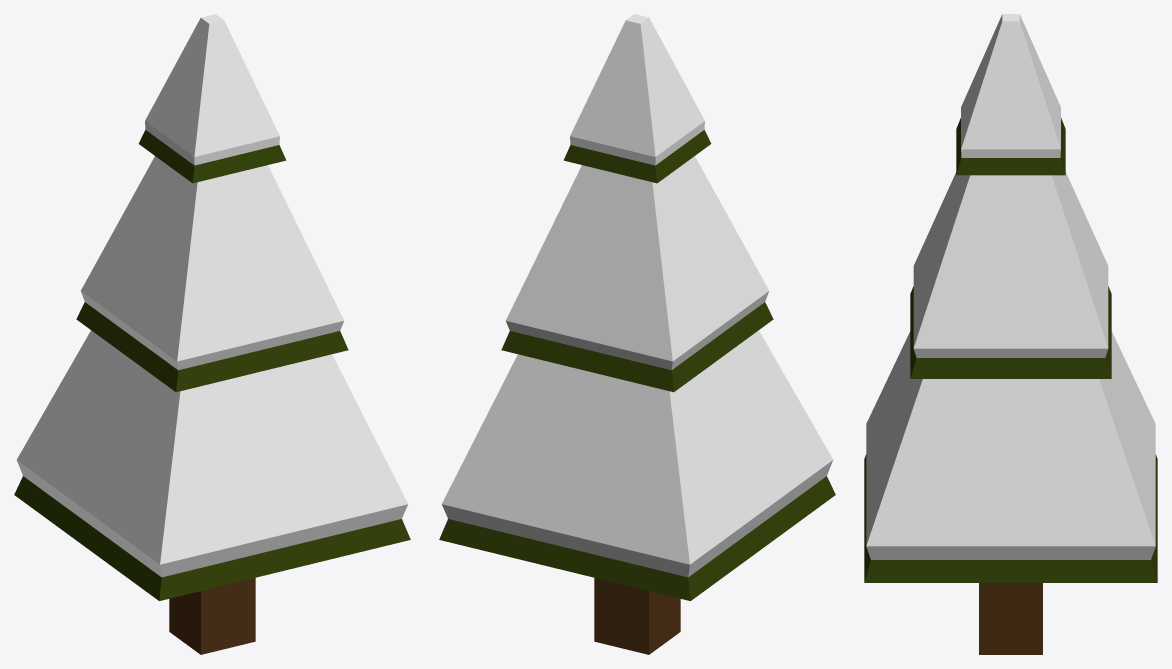
The model's file is WinterTreeSpruce_03.fbx.
3 views of the same model, side by side, from view 1: azimuth 30°, elevation 25°; view 2: azimuth 150°, elevation 25°; view 3: azimuth 270°, elevation 25° (orthographic).
Visible parts, largest first — view 1: WinterTreeSpruce_03; view 2: WinterTreeSpruce_03; view 3: WinterTreeSpruce_03.
Part boxes in pixels (x1=…): WinterTreeSpruce_03: x1=14, y1=14, x2=410, y2=654; WinterTreeSpruce_03: x1=439, y1=14, x2=835, y2=654; WinterTreeSpruce_03: x1=864, y1=14, x2=1157, y2=654.
Bounding box in the file's own units: 0.3333 × 0.7822 × 0.3333.
